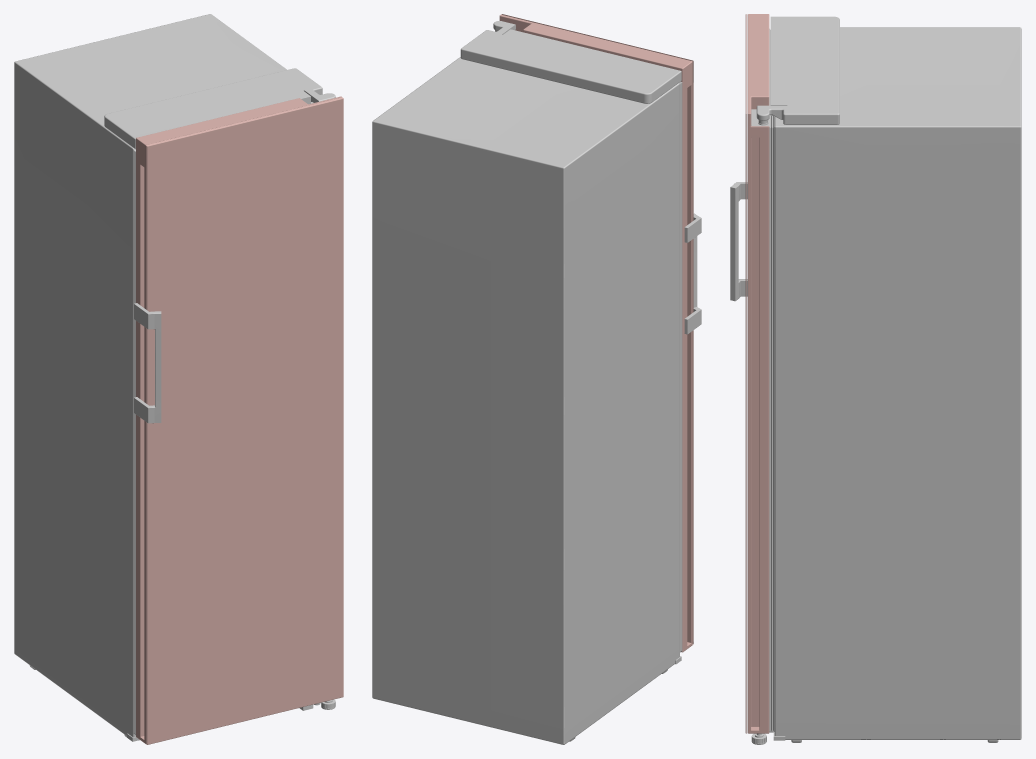
File: not-too-modern_fridge.glb
The picture shows the model from 3 angles, left to right: view 1: azimuth 30°, elevation 25°; view 2: azimuth 150°, elevation 25°; view 3: azimuth 270°, elevation 25°; orthographic projection. The views are drawn at different scales.
Visible parts, largest first — view 1: Bespoke_Tall_1_Door_Freezer__Glass__Stain_Beige014.001; view 2: Bespoke_Tall_1_Door_Freezer__Glass__Stain_Beige014.001; view 3: Bespoke_Tall_1_Door_Freezer__Glass__Stain_Beige014.001.
Part boxes in pixels (x1,y1,x2,y2): Bespoke_Tall_1_Door_Freezer__Glass__Stain_Beige014.001: (14,14,343,744); Bespoke_Tall_1_Door_Freezer__Glass__Stain_Beige014.001: (372,14,701,744); Bespoke_Tall_1_Door_Freezer__Glass__Stain_Beige014.001: (730,14,1021,744).
Bounding box in the file's own units: 0.62 × 1.8 × 0.75.
